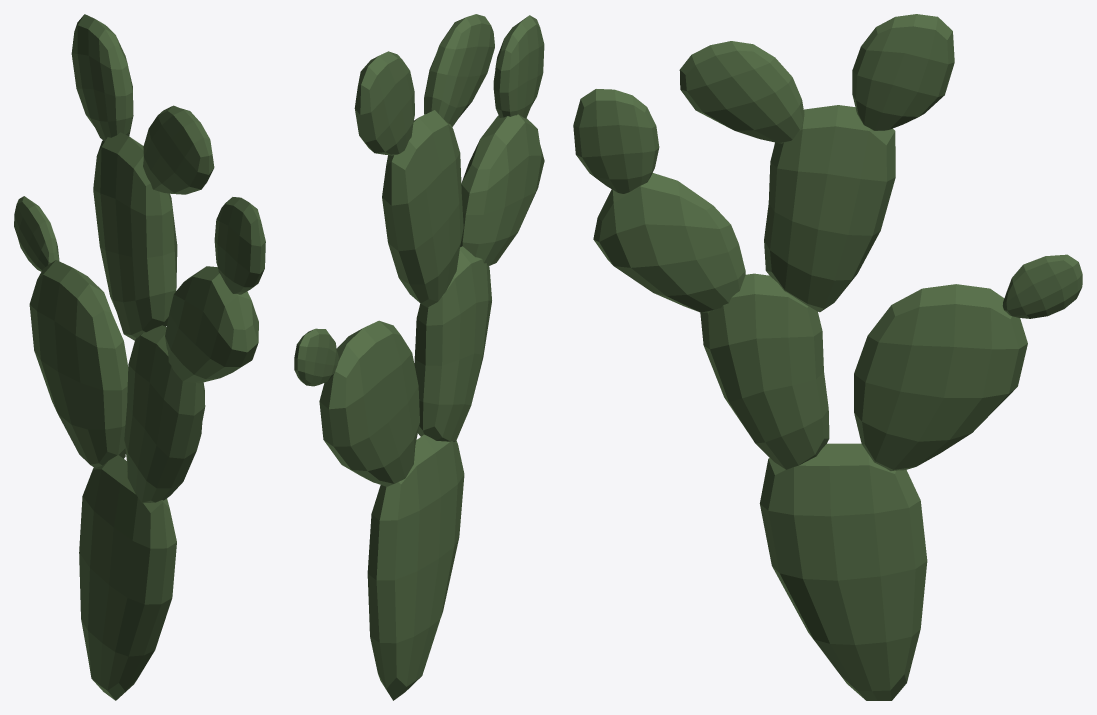
Rendered from cactus_4.glb.
3 renders of one model, left to right at view 1: azimuth 30°, elevation 25°; view 2: azimuth 150°, elevation 25°; view 3: azimuth 270°, elevation 25°, orthographic. The views are drawn at different scales.
Visible parts, largest first — view 1: Cactus_4; view 2: Cactus_4; view 3: Cactus_4.
Boxes of the visible parts, x1,y1,x2,y2 form: Cactus_4: [14, 14, 265, 700]; Cactus_4: [294, 14, 544, 700]; Cactus_4: [573, 14, 1082, 700].
Bounding box in the file's own units: 0.2639 × 3.29 × 2.21.
